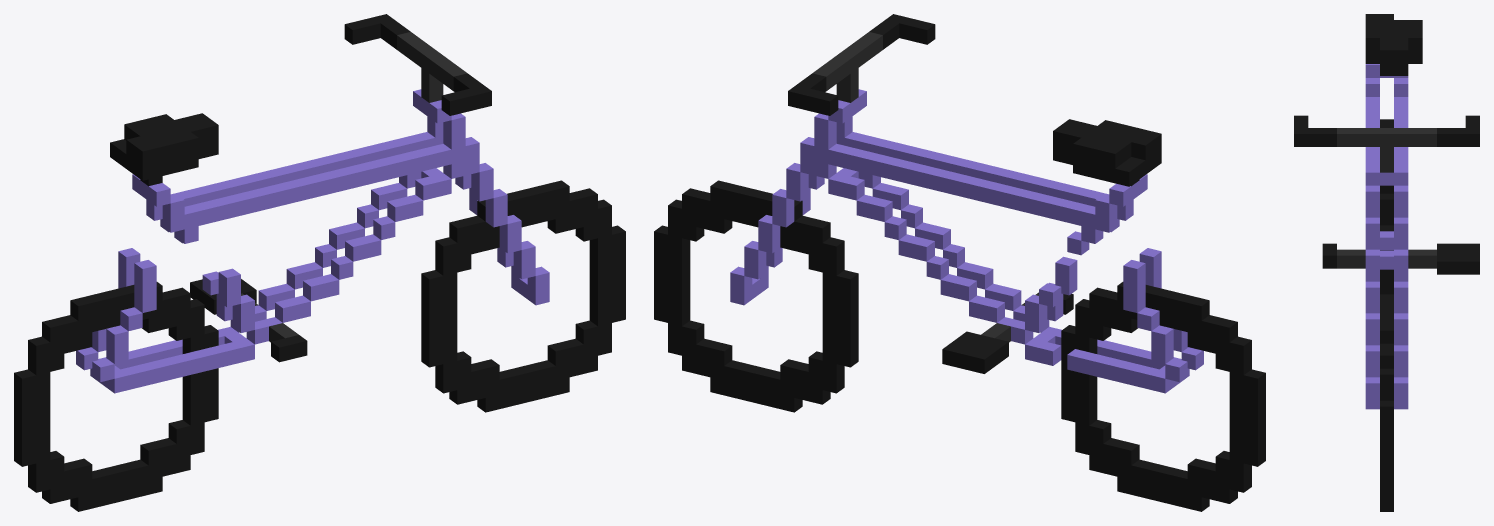
File: Background_A_bicycle_02.FBX
3 views of the same model, side by side, from view 1: azimuth 30°, elevation 25°; view 2: azimuth 150°, elevation 25°; view 3: azimuth 270°, elevation 25° (orthographic). The views are drawn at different scales.
Parts seen in each view (by area): view 1: Load_A-10; view 2: Load_A-10; view 3: Load_A-10.
Part boxes in pixels (left/top/right/bottom): Load_A-10: left=14, top=14, right=625, bottom=511; Load_A-10: left=654, top=14, right=1265, bottom=511; Load_A-10: left=1294, top=14, right=1479, bottom=511.
Bounding box in the file's own units: 4.3 × 2.5 × 1.3.
1 material, 1 textured.
